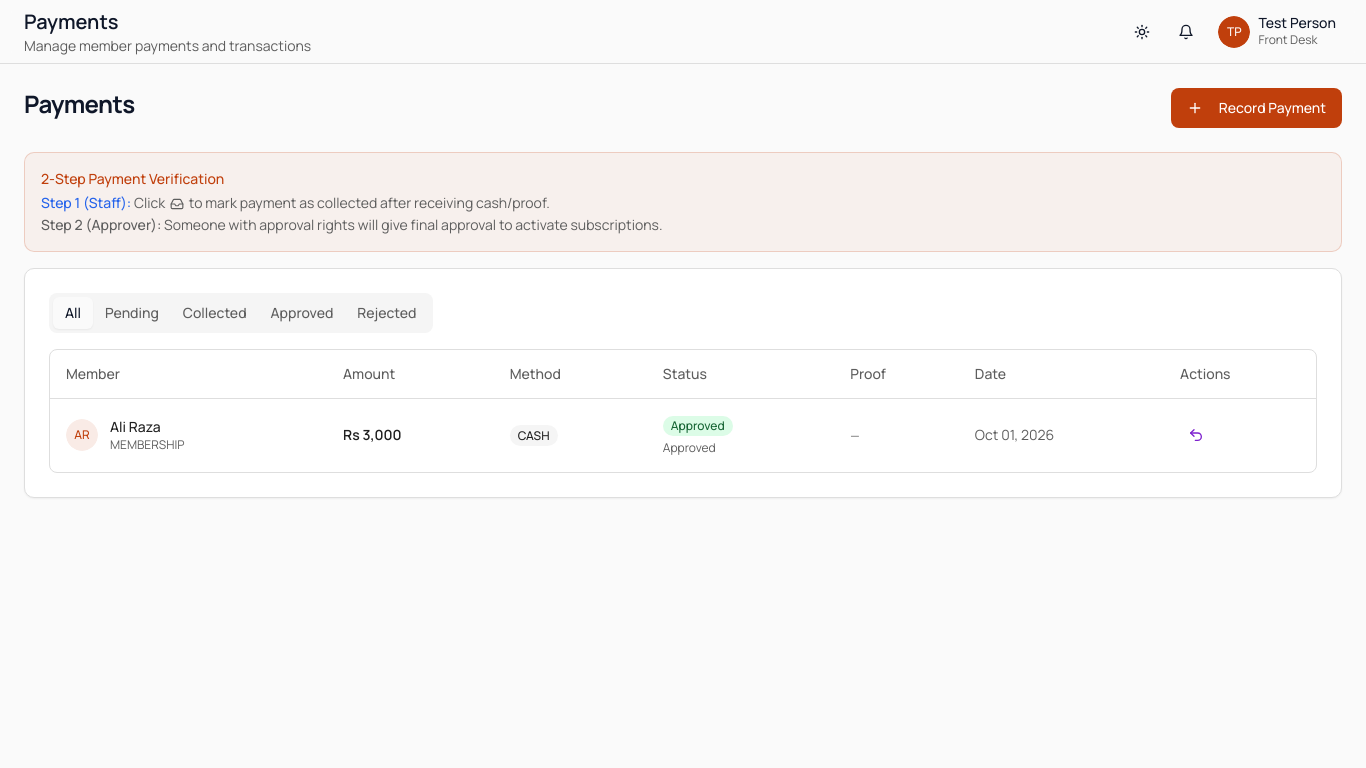
Test: Refunds (PAY-07) › 202 pending: shows the shared notice with a link to the approvals inbox, never "refunded"
Expected: the text "Ali Raza" is shown, [110,417,160,436]
Click the button named "Request refund": (1196, 435) [1180,419,1212,451]
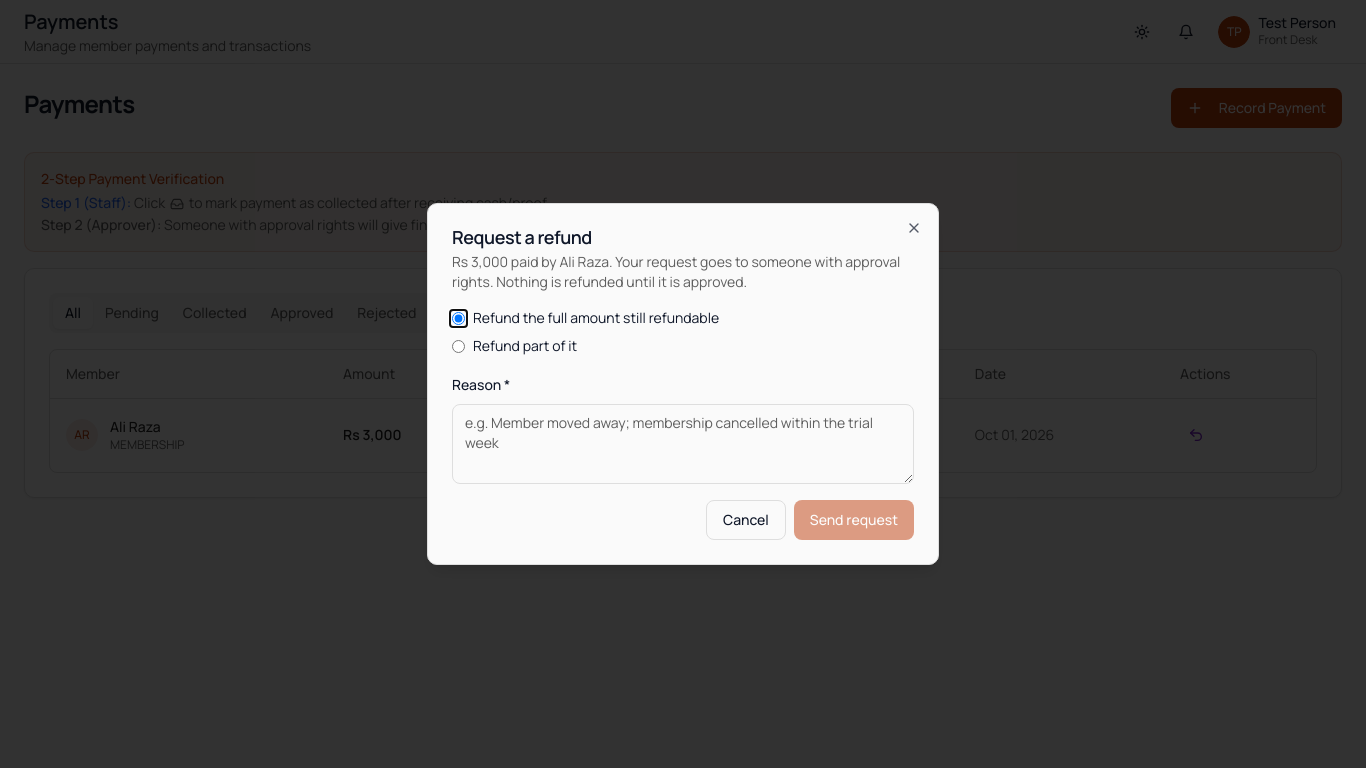
Replace the text in the text box labelled "Reason *" with "Moved away": (683, 444) [452,404,914,484]
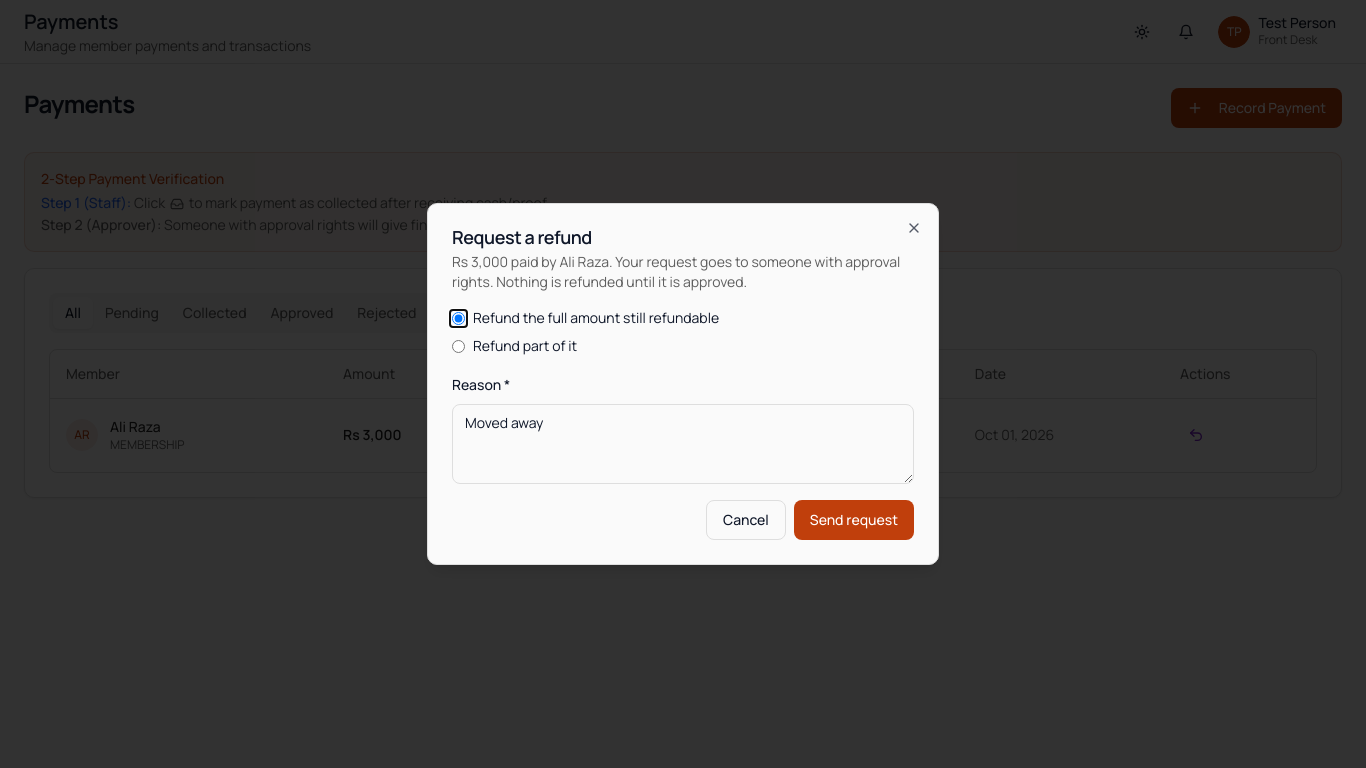
Click the button "Send request": (854, 520) [794,500,914,540]
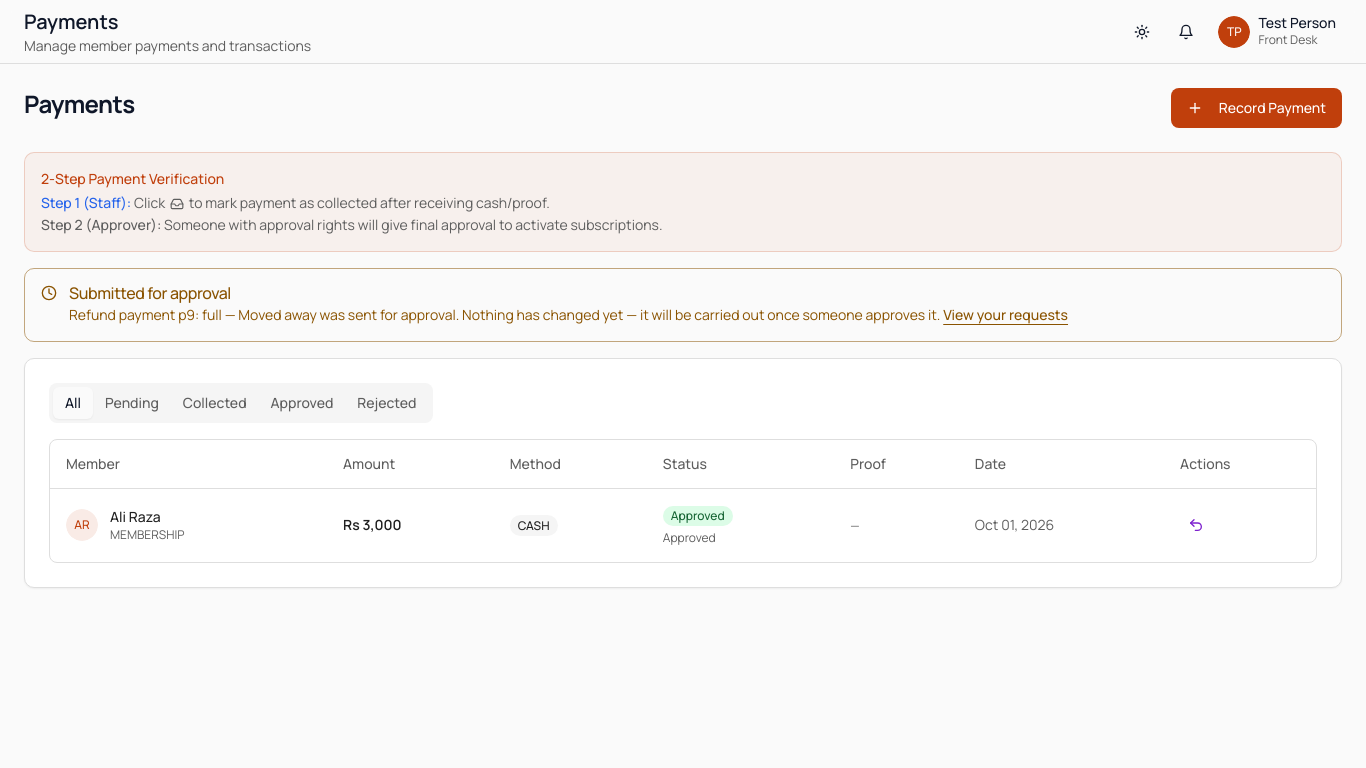
Expected: the heading "Submitted for approval" is shown, [69,282,231,304]
